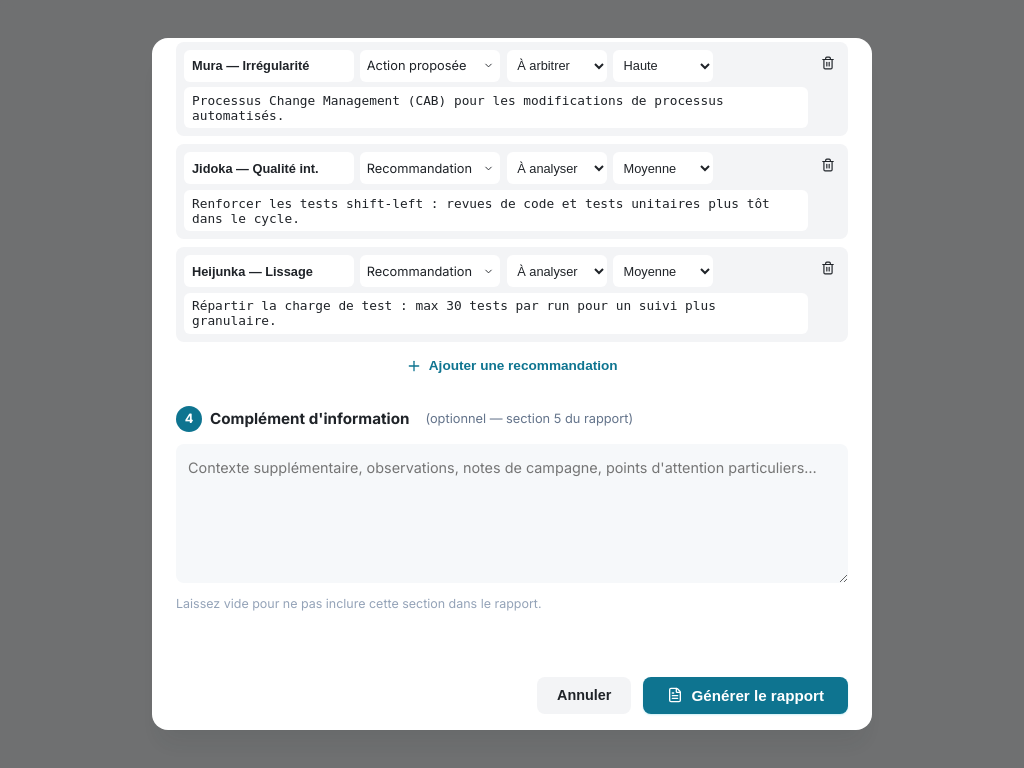
Test: ReportGeneratorModal › updates complement text
(page scrolled)
Replace the text in the text box with placeholder "Contexte supplémentaire" with "Mon complément" at coordinates (512, 513), box [176,444,848,583]
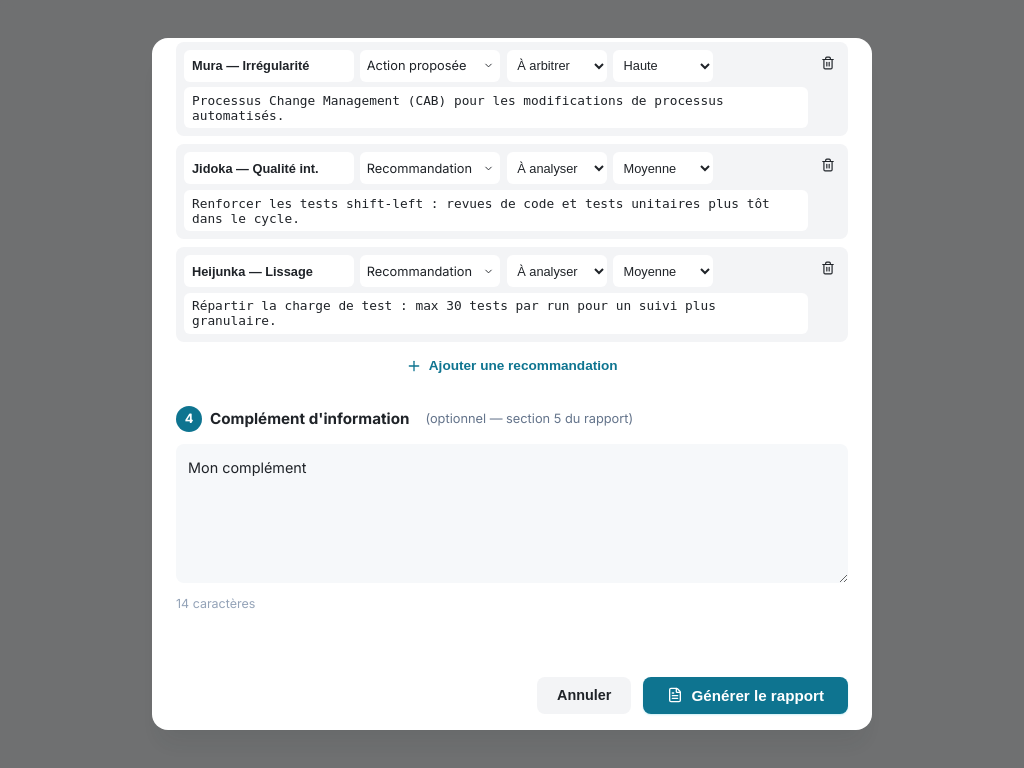
Now the text "14 caractères" is shown, box [176,596,255,611]
